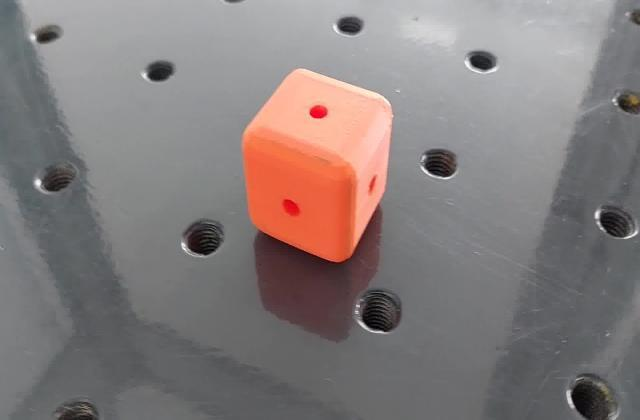cube: (240, 65, 396, 267)
